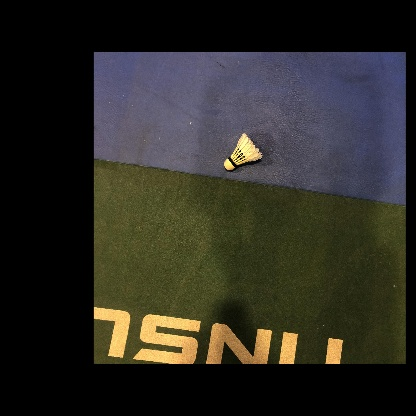ball_single: (224, 133, 262, 170)
